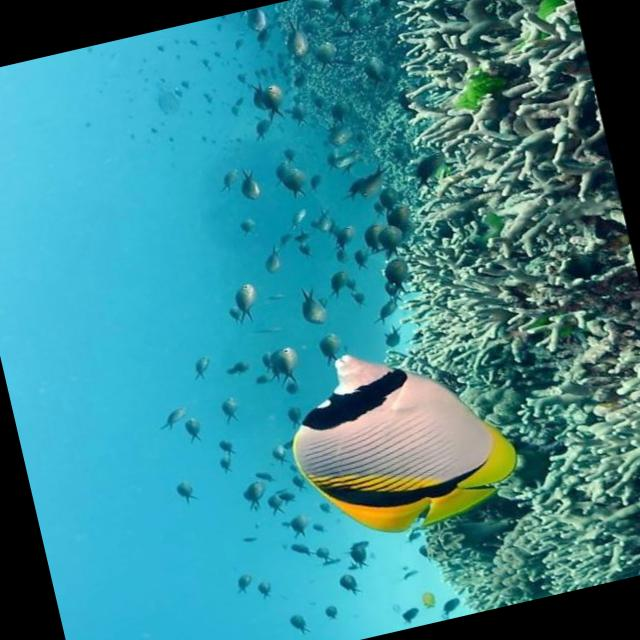ButterflyFish: (268, 299, 568, 591)
